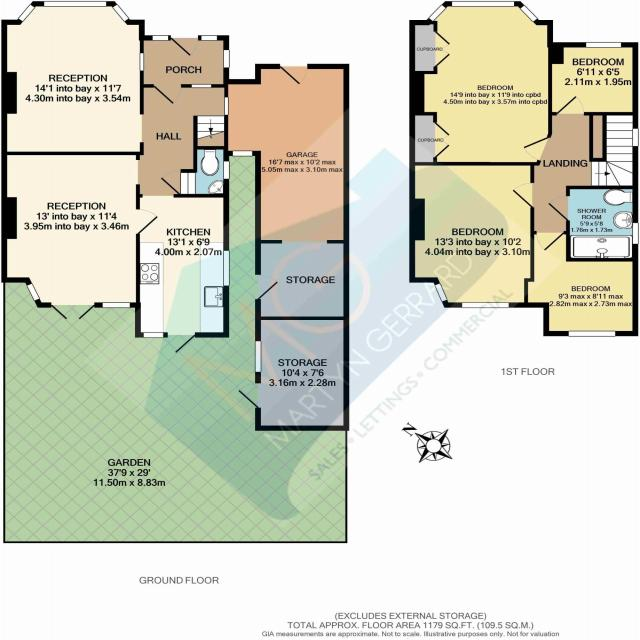DOOR: (521, 136, 551, 162), (166, 332, 196, 354), (511, 182, 535, 209), (135, 208, 159, 235), (535, 231, 565, 252), (547, 195, 570, 222), (556, 95, 585, 116), (153, 84, 182, 105), (159, 169, 182, 195)
ROOM: (1, 152, 158, 320), (409, 1, 554, 166), (1, 1, 145, 155), (409, 162, 535, 308), (135, 194, 230, 354), (524, 231, 638, 336), (547, 42, 639, 116)
WINDOW: (451, 1, 515, 7), (43, 1, 107, 7), (17, 3, 36, 23), (111, 4, 130, 23), (567, 330, 616, 337), (428, 4, 447, 22), (519, 5, 538, 23), (26, 282, 41, 302), (462, 302, 509, 308), (434, 283, 448, 302), (223, 250, 230, 286), (585, 42, 622, 48), (102, 302, 130, 308), (632, 222, 639, 245), (632, 128, 639, 147), (223, 161, 230, 180), (143, 332, 164, 338), (139, 53, 144, 71), (224, 97, 229, 115), (191, 84, 212, 88)
